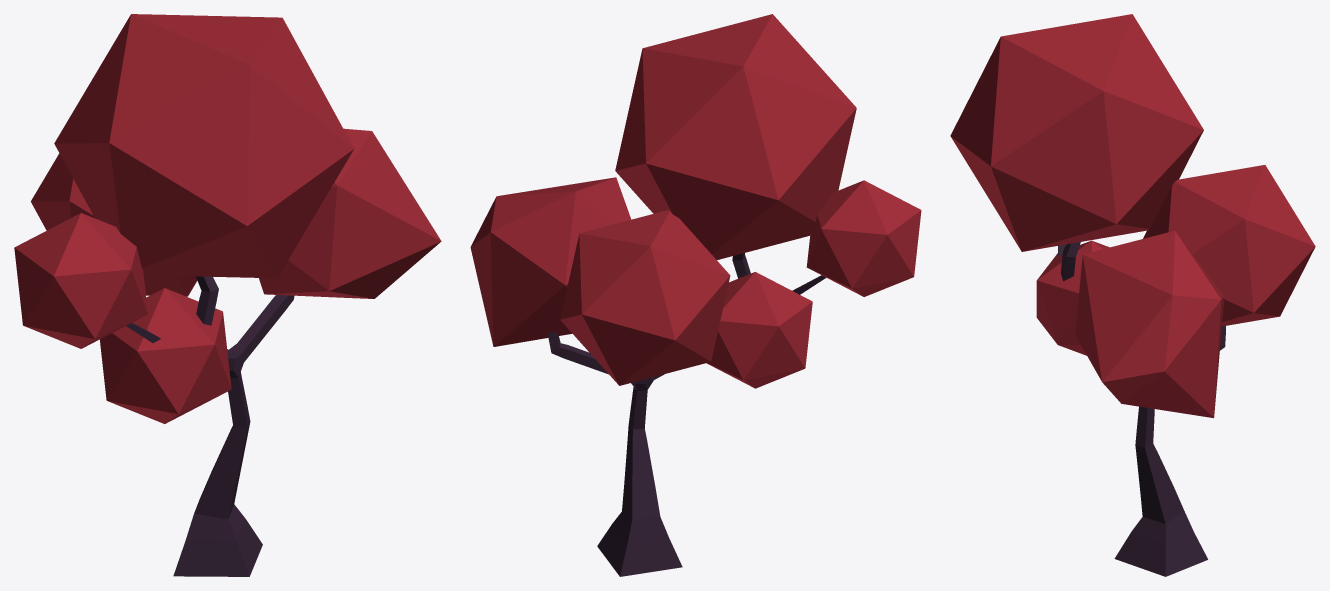
The model's file is tree.fbx.
The picture shows the model from 3 angles, left to right: view 1: azimuth 30°, elevation 25°; view 2: azimuth 150°, elevation 25°; view 3: azimuth 270°, elevation 25°; orthographic projection. The views are drawn at different scales.
Visible parts, largest first — view 1: Icosphere.001, Icosphere.003, Icosphere, Icosphere.004, Cube, Icosphere.002; view 2: Icosphere.001, Icosphere.002, Icosphere.003, Icosphere, Icosphere.004, Cube; view 3: Icosphere.001, Icosphere.003, Icosphere.002, Cube, Icosphere.004.
Boxes of the visible parts, x1,y1,x2,y2 form: Icosphere.001: (54,14,354,278); Icosphere.003: (259,128,441,298); Icosphere: (14,213,147,348); Icosphere.004: (100,288,231,423); Cube: (126,276,294,576); Icosphere.002: (31,153,197,296); Icosphere.001: (615,14,856,259); Icosphere.002: (560,210,730,385); Icosphere.003: (470,177,631,346); Icosphere: (806,180,921,296); Icosphere.004: (706,272,812,388); Cube: (548,253,825,576); Icosphere.001: (950,14,1203,251); Icosphere.003: (1075,230,1224,418); Icosphere.002: (1143,165,1315,326); Cube: (1058,242,1225,576); Icosphere.004: (1036,240,1109,355).
Size of the model in its own units: 527 by 653 by 429.
